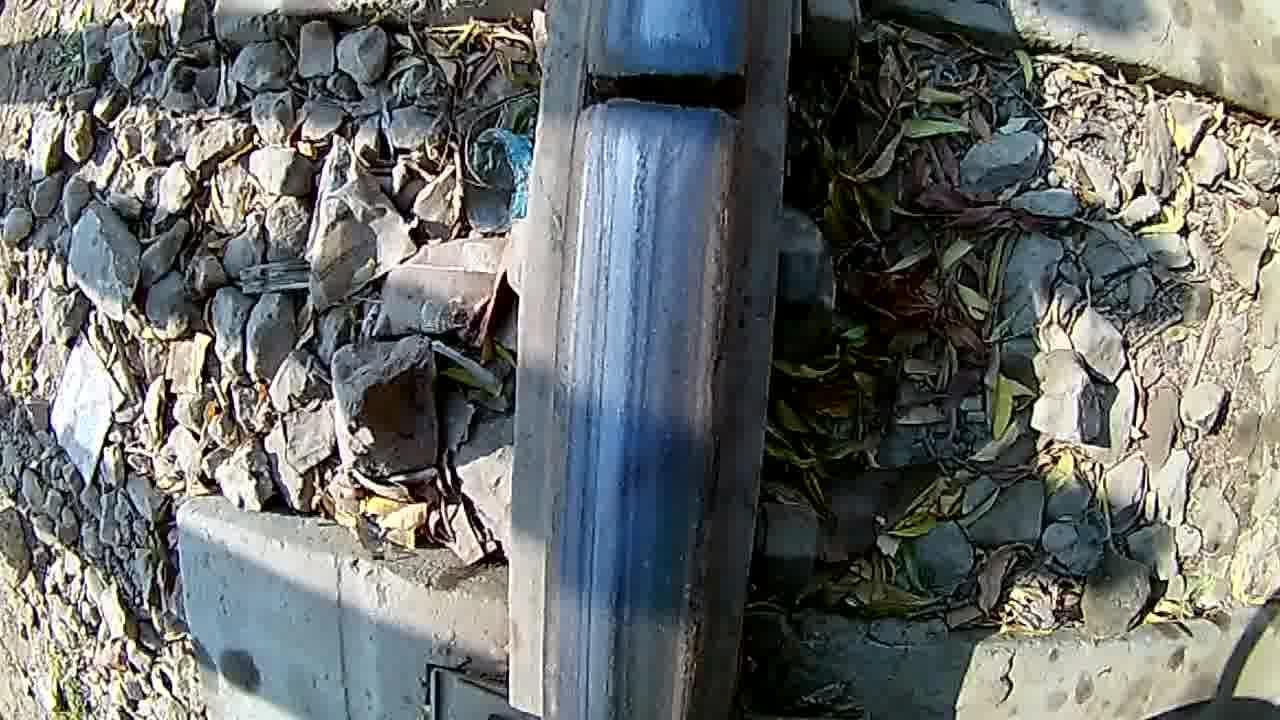crack: (544, 160, 748, 720), (574, 11, 770, 148)
